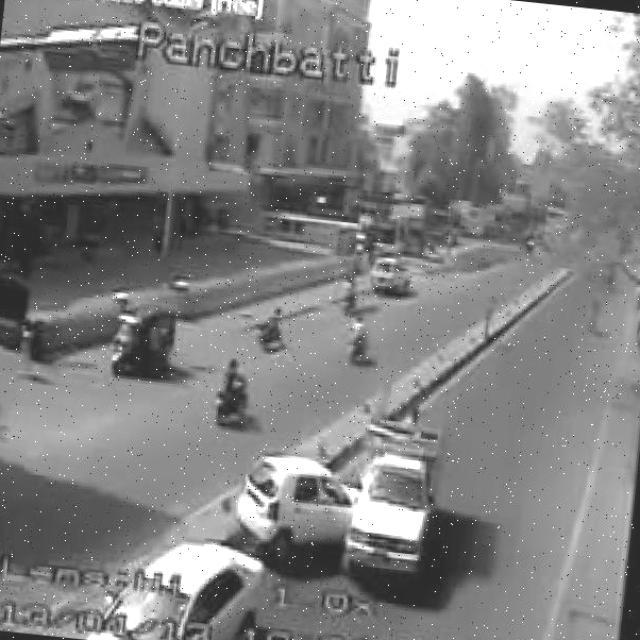accident: (225, 402, 445, 584)
